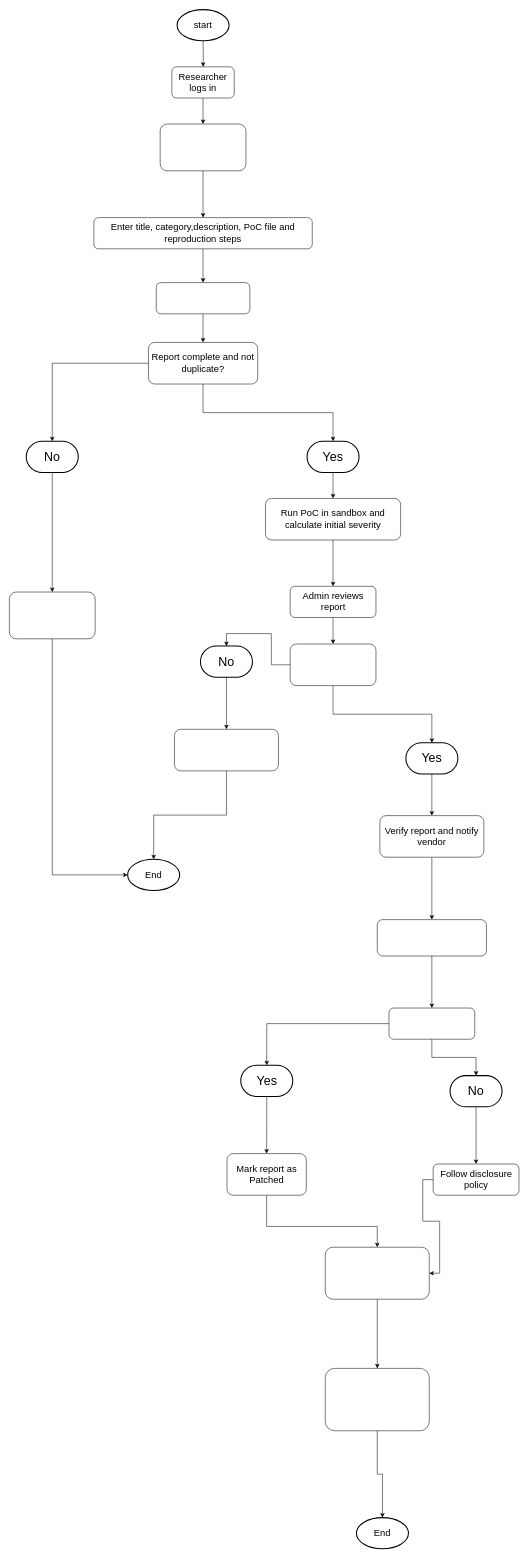
The diagram is 528 pixels wide and 1558 high, and some of its shapes have lost their labels. The shapes that lost their labels are listed below. From the top down, each one's centre as x and y in pixels, then its label:
At pixel 203 147: "Submit vulnerability report".
At pixel 203 298: "Automated triage".
At pixel 52 615: "Flag report for review or correction".
At pixel 333 665: "Admin verifies report?".
At pixel 226 750: "Reject report and provide reason".
At pixel 431 937: "Track vendor response and disclosure deadline".
At pixel 431 1023: "Patch confirmed?".
At pixel 377 1273: "Publish report when appropriate".
At pixel 377 1399: "Update researcher statistics and leaderboard".
